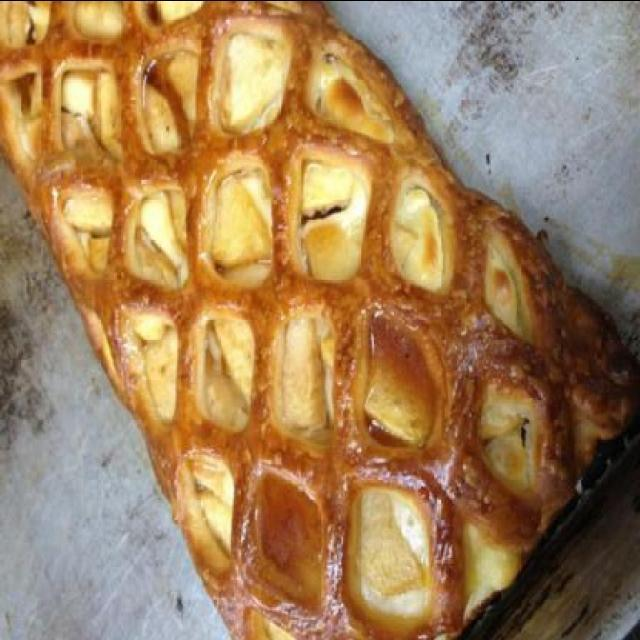Apple: (66, 64, 632, 628)
